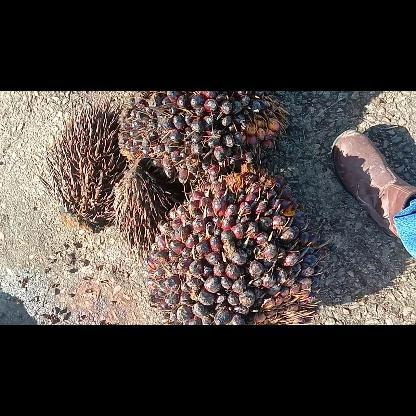Janjang kosong: (36, 90, 127, 233), (107, 164, 170, 260)
TBS mentah: (142, 164, 328, 324), (118, 91, 288, 183)
